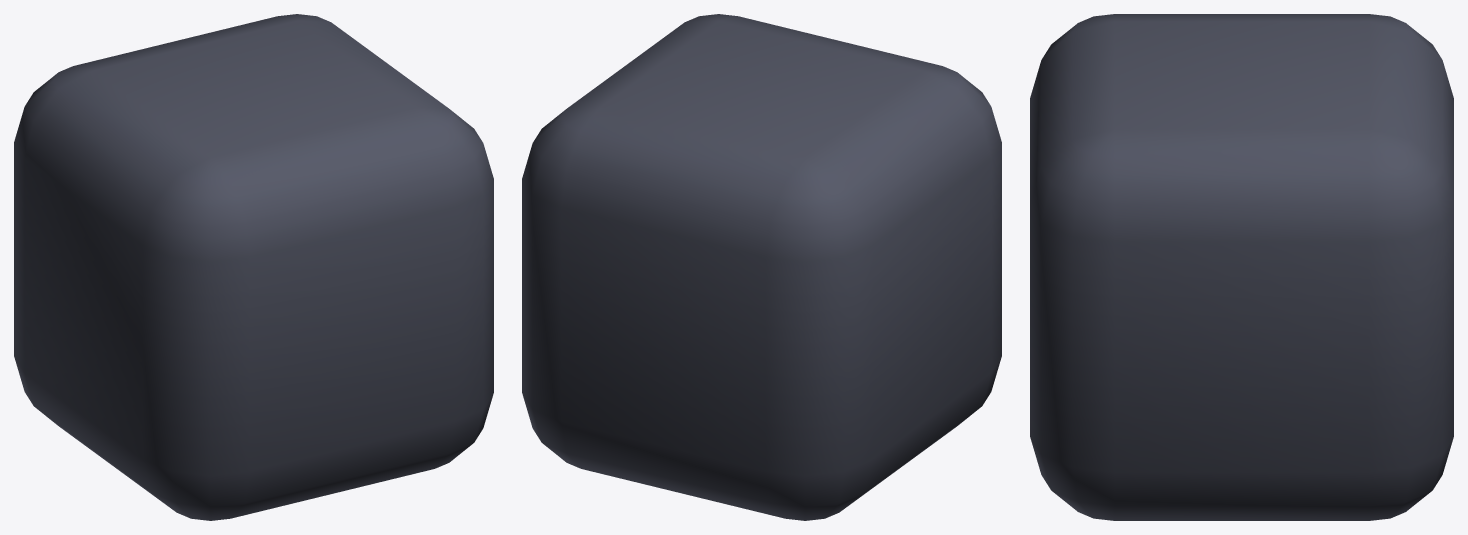
The model's file is cloud.glb.
The picture shows the model from 3 angles, left to right: view 1: azimuth 30°, elevation 25°; view 2: azimuth 150°, elevation 25°; view 3: azimuth 270°, elevation 25°; orthographic projection. The views are drawn at different scales.
Visible parts, largest first — view 1: cube; view 2: cube; view 3: cube.
Part boxes in pixels (bbox=[...]): cube: bbox=[14, 14, 493, 520]; cube: bbox=[522, 14, 1001, 520]; cube: bbox=[1030, 14, 1453, 520].
Bounding box in the file's own units: 1 × 1 × 1.
Materials: 1 (1 with a texture image).
